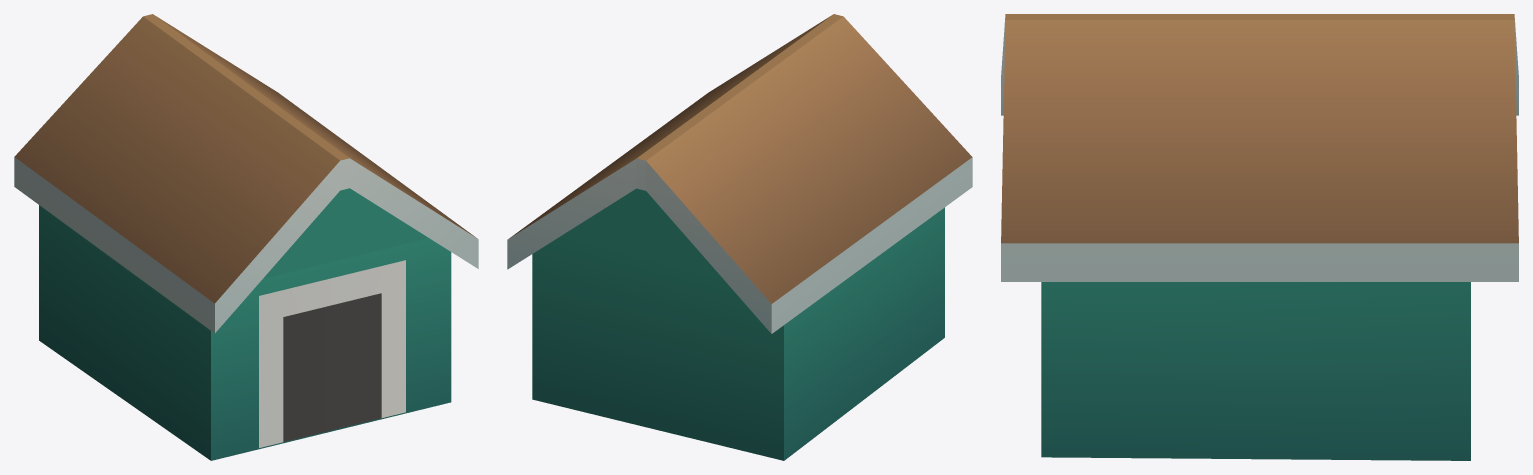
File: Booth.fbx
3 views of the same model, side by side, from view 1: azimuth 30°, elevation 25°; view 2: azimuth 150°, elevation 25°; view 3: azimuth 270°, elevation 25° (orthographic). The views are drawn at different scales.
Parts seen in each view (by area): view 1: Booth; view 2: Booth; view 3: Booth.
Boxes of the visible parts, <box> form: Booth: <box>14,14,478,460</box>; Booth: <box>507,14,972,460</box>; Booth: <box>1001,14,1518,460</box>.
Size of the model in its own units: 172 by 176 by 226.
